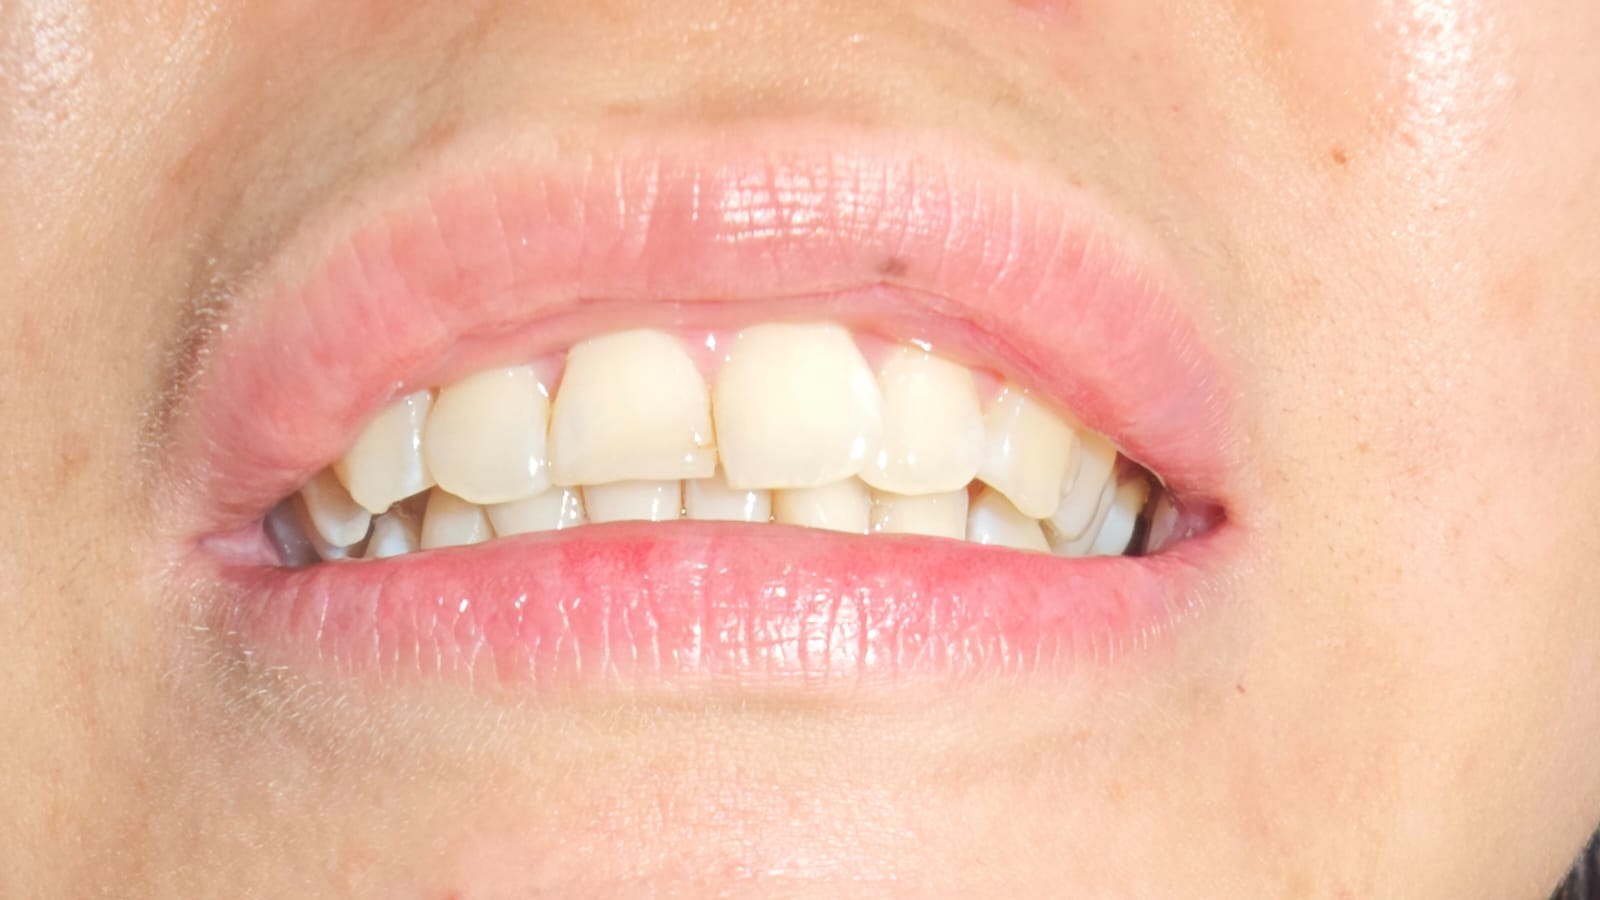teeth: (715, 334, 882, 474), (559, 347, 707, 474), (431, 384, 547, 499), (874, 355, 969, 480), (989, 388, 1062, 518), (335, 399, 424, 500)
